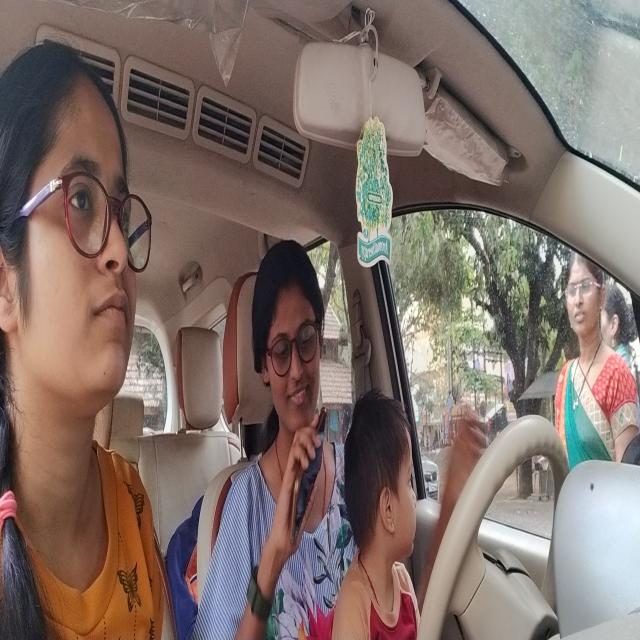child: (355, 393, 423, 568)
mobile: (292, 407, 326, 532)
person: (6, 54, 141, 408), (254, 245, 320, 413)
